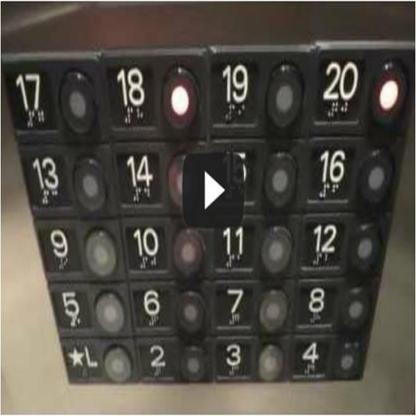10: (120, 210, 214, 281)
11: (211, 209, 301, 280)
12: (296, 209, 391, 279)
13: (13, 141, 118, 220)
14: (108, 136, 217, 220)
15: (208, 135, 307, 219)
16: (308, 135, 406, 219)
17: (0, 46, 112, 144)
18: (103, 43, 214, 145)
19: (209, 42, 314, 140)
2: (133, 330, 214, 388)
20: (311, 38, 414, 138)
3: (210, 330, 297, 388)
4: (290, 330, 373, 388)
5: (45, 274, 132, 340)
6: (125, 275, 214, 338)
7: (210, 274, 301, 337)
8: (291, 274, 381, 334)
9: (31, 210, 128, 284)
L: (58, 329, 133, 389)
